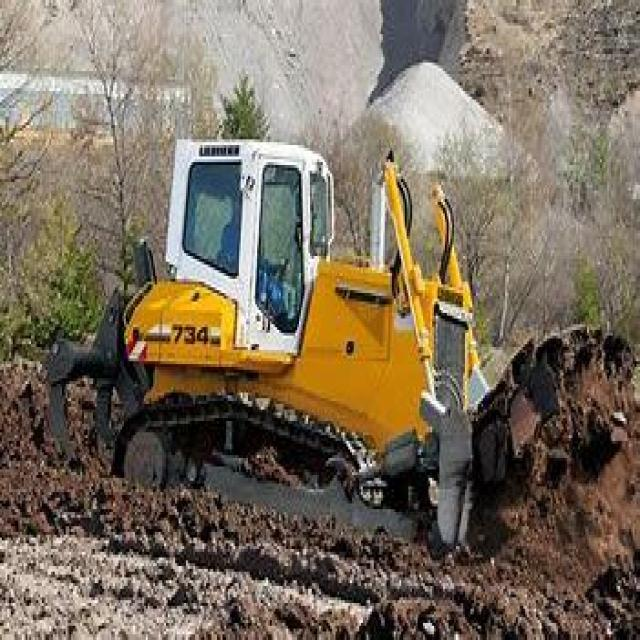buldozerpayloadergrader: (38, 122, 551, 575)
